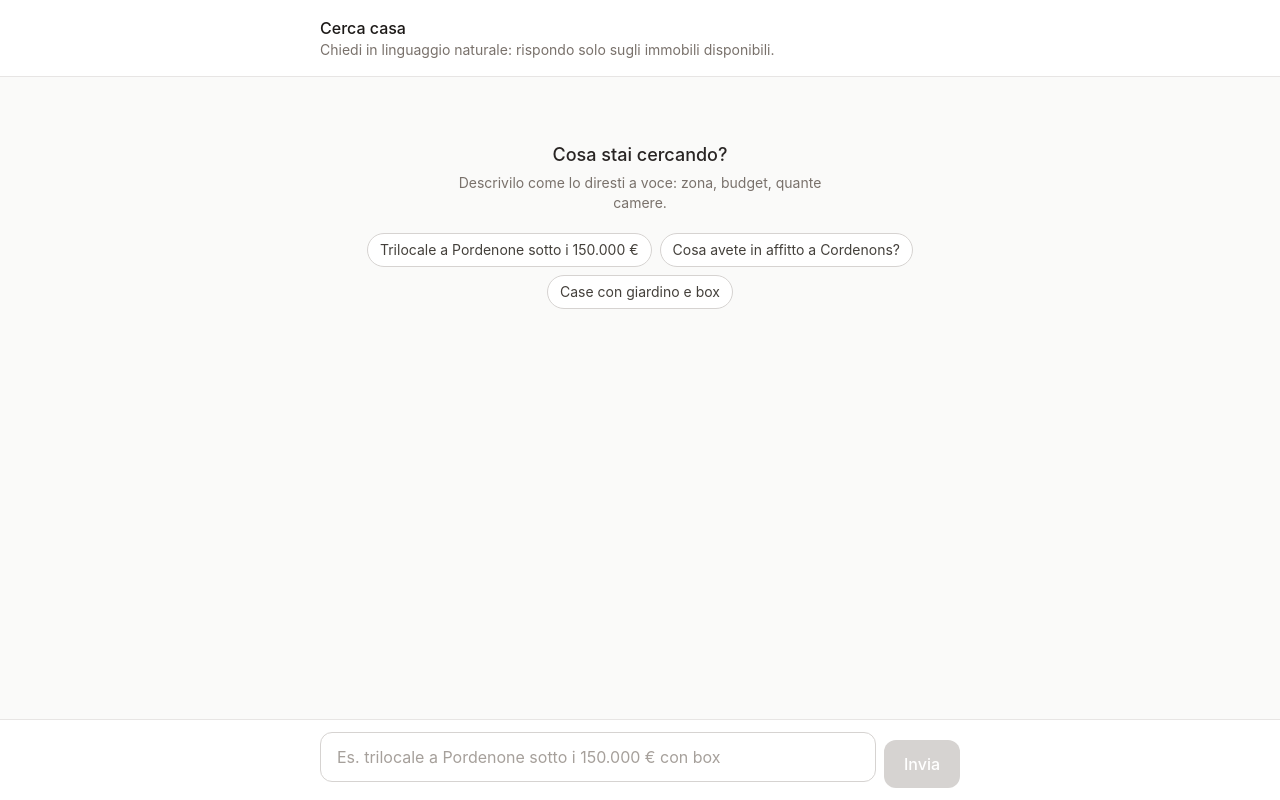
Test case: the chat page › sends the question when Enter is pressed
Type "case a Sacile" into the text box named "Scrivi la tua richiesta" at [598, 757], box [320,732,876,782]
Then press Enter
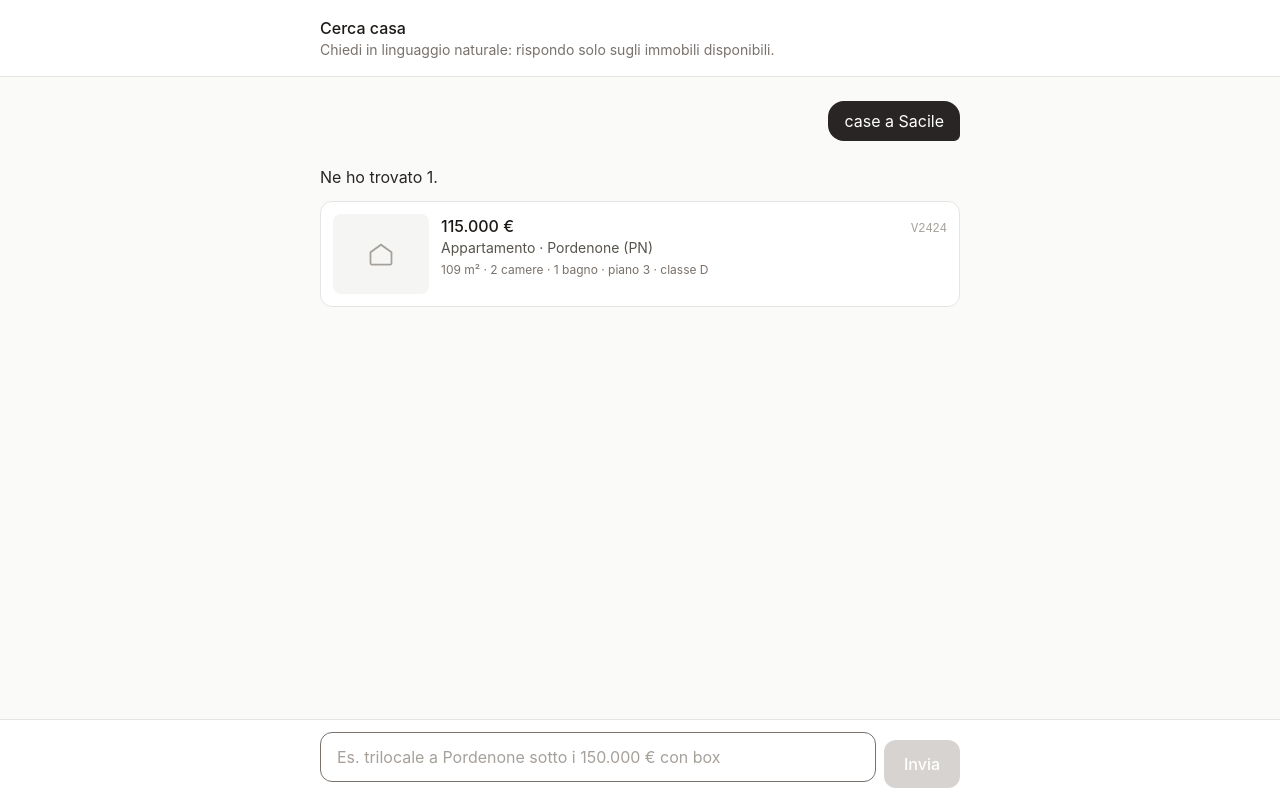
Check: the text "case a Sacile" is shown, box [828,101,960,141]
